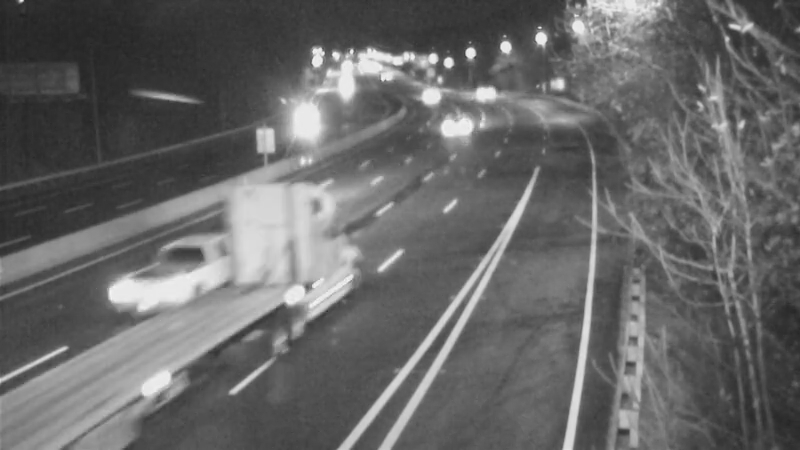vehicle: (160, 275, 270, 385), (117, 236, 197, 316), (461, 66, 511, 116), (403, 72, 453, 122), (440, 98, 490, 148), (283, 100, 333, 150)
